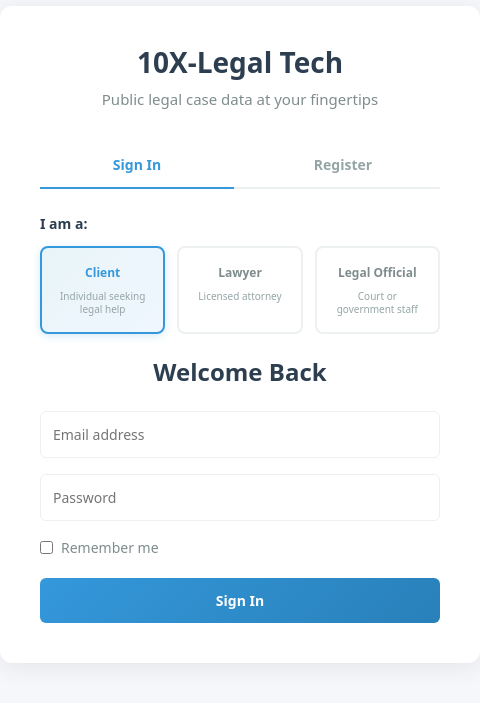
Test: Landing › shows lawyer-specific fields when lawyer role selected in register
Click the button "Register": [343, 165] box [246,142,440,187]
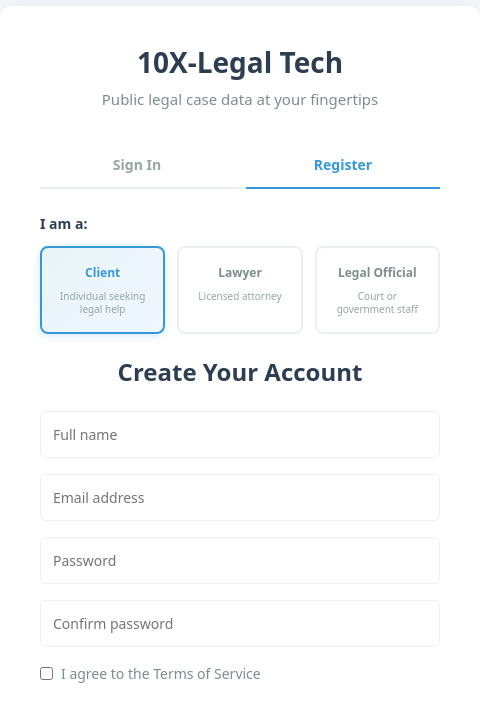
Click the text "Lawyer": [240, 273] box [218,264,262,282]
(page scrolled)
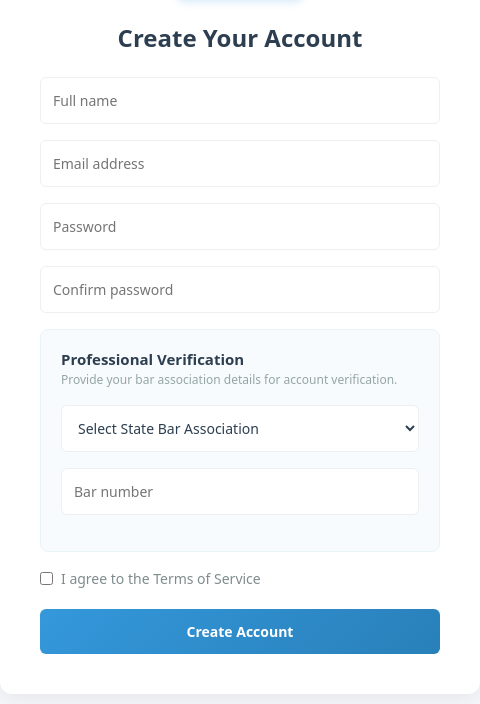
expect the heading "Professional Verification" is shown: met, box [61,349,244,369]
expect the field with placeholder "Bar number" is shown: met, box [61,468,419,515]
